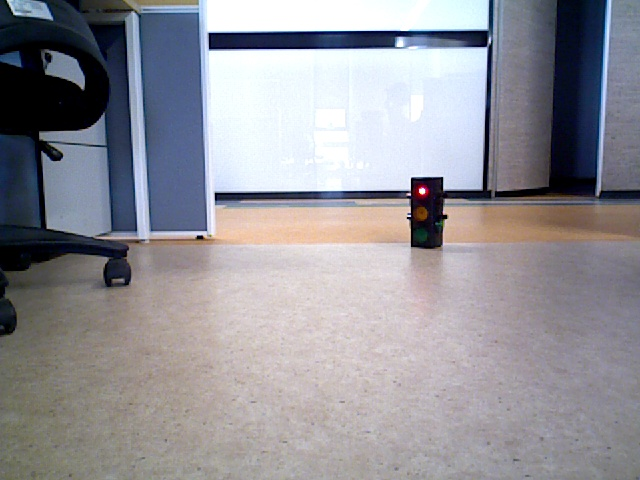red: (412, 178, 438, 247)
